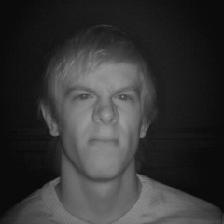sad: (41, 23, 160, 188)
